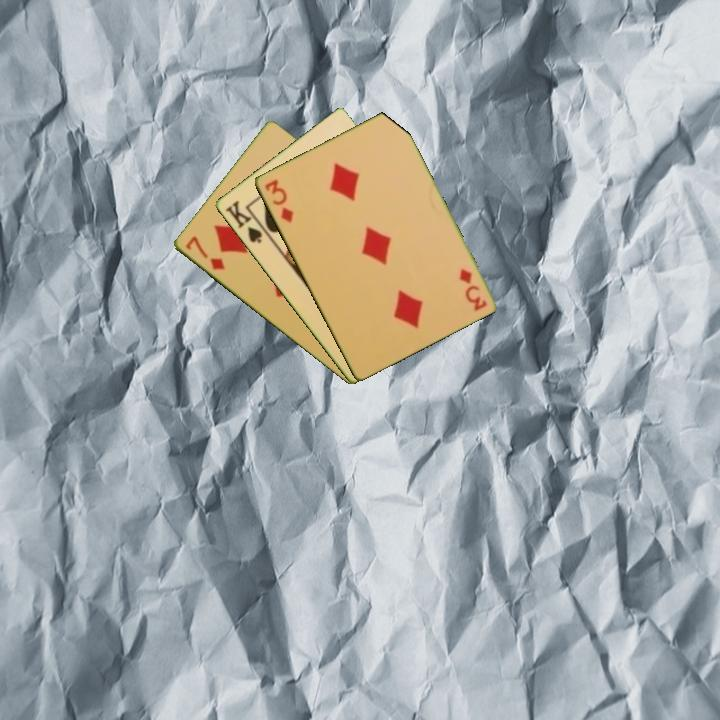3d: (261, 175, 296, 226), (455, 264, 489, 314)
7d: (182, 232, 227, 273)
Ks: (221, 197, 265, 246)
